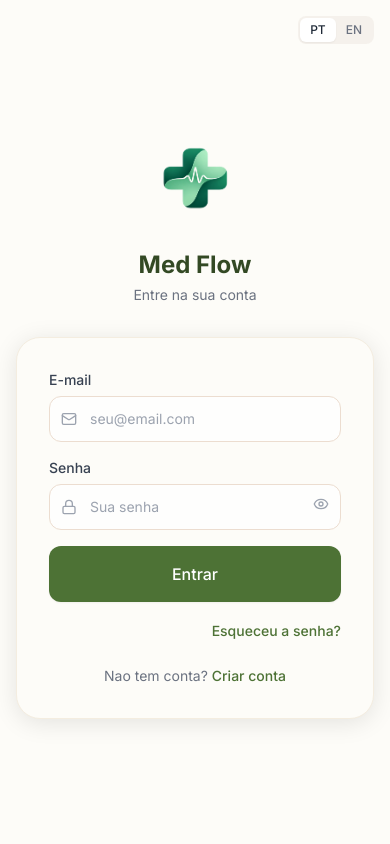
Login Journey › shows validation error for empty password on submit
The width and height of the screenshot is (390, 844).
Step 1. Type "user@test.com" into the field with placeholder "seu@email.com" → x=195, y=419, box [49, 396, 341, 442]
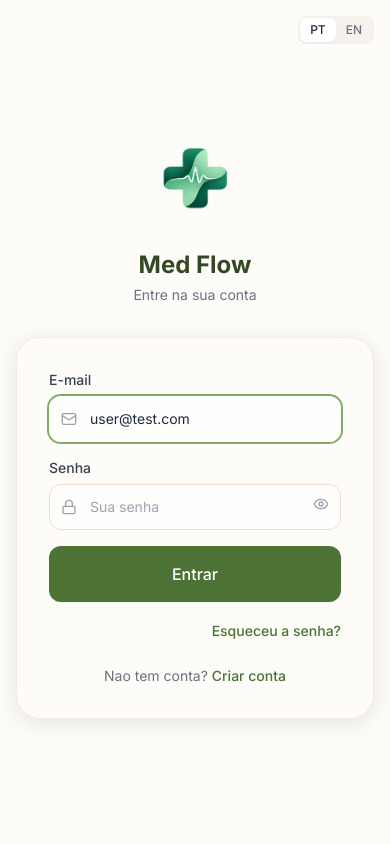
Step 2. Click the button "Entrar" → x=195, y=574, box [49, 546, 341, 602]
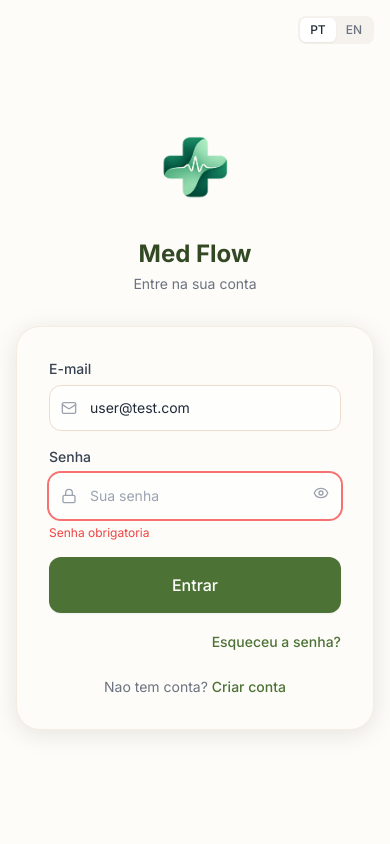
Expected: the text "Senha obrigatoria" is shown, [49, 525, 150, 540]
